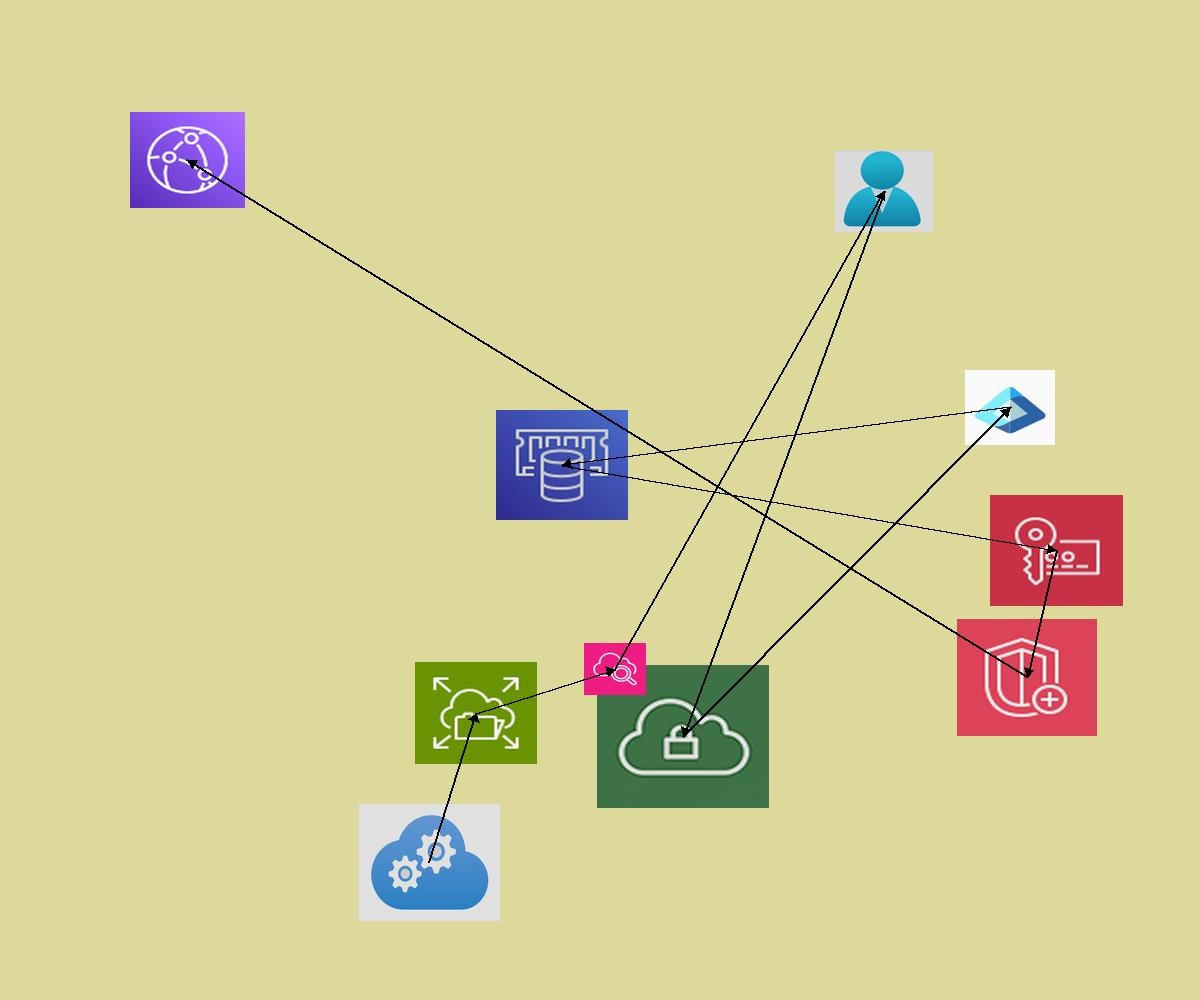AWS-CloudFront: (130, 112, 245, 208)
AWS-CloudWatch: (584, 643, 646, 695)
AWS-EFS: (415, 662, 537, 764)
AWS-ElastiCache: (496, 410, 628, 520)
AWS-Key-Management-Service: (990, 495, 1123, 606)
AWS-Private_vpc: (597, 665, 769, 808)
AWS-Shield: (957, 619, 1097, 736)
Azure_cloud_services: (359, 804, 500, 921)
Azure_microsoft_entra: (965, 370, 1055, 445)
Azure_users: (835, 150, 933, 232)
